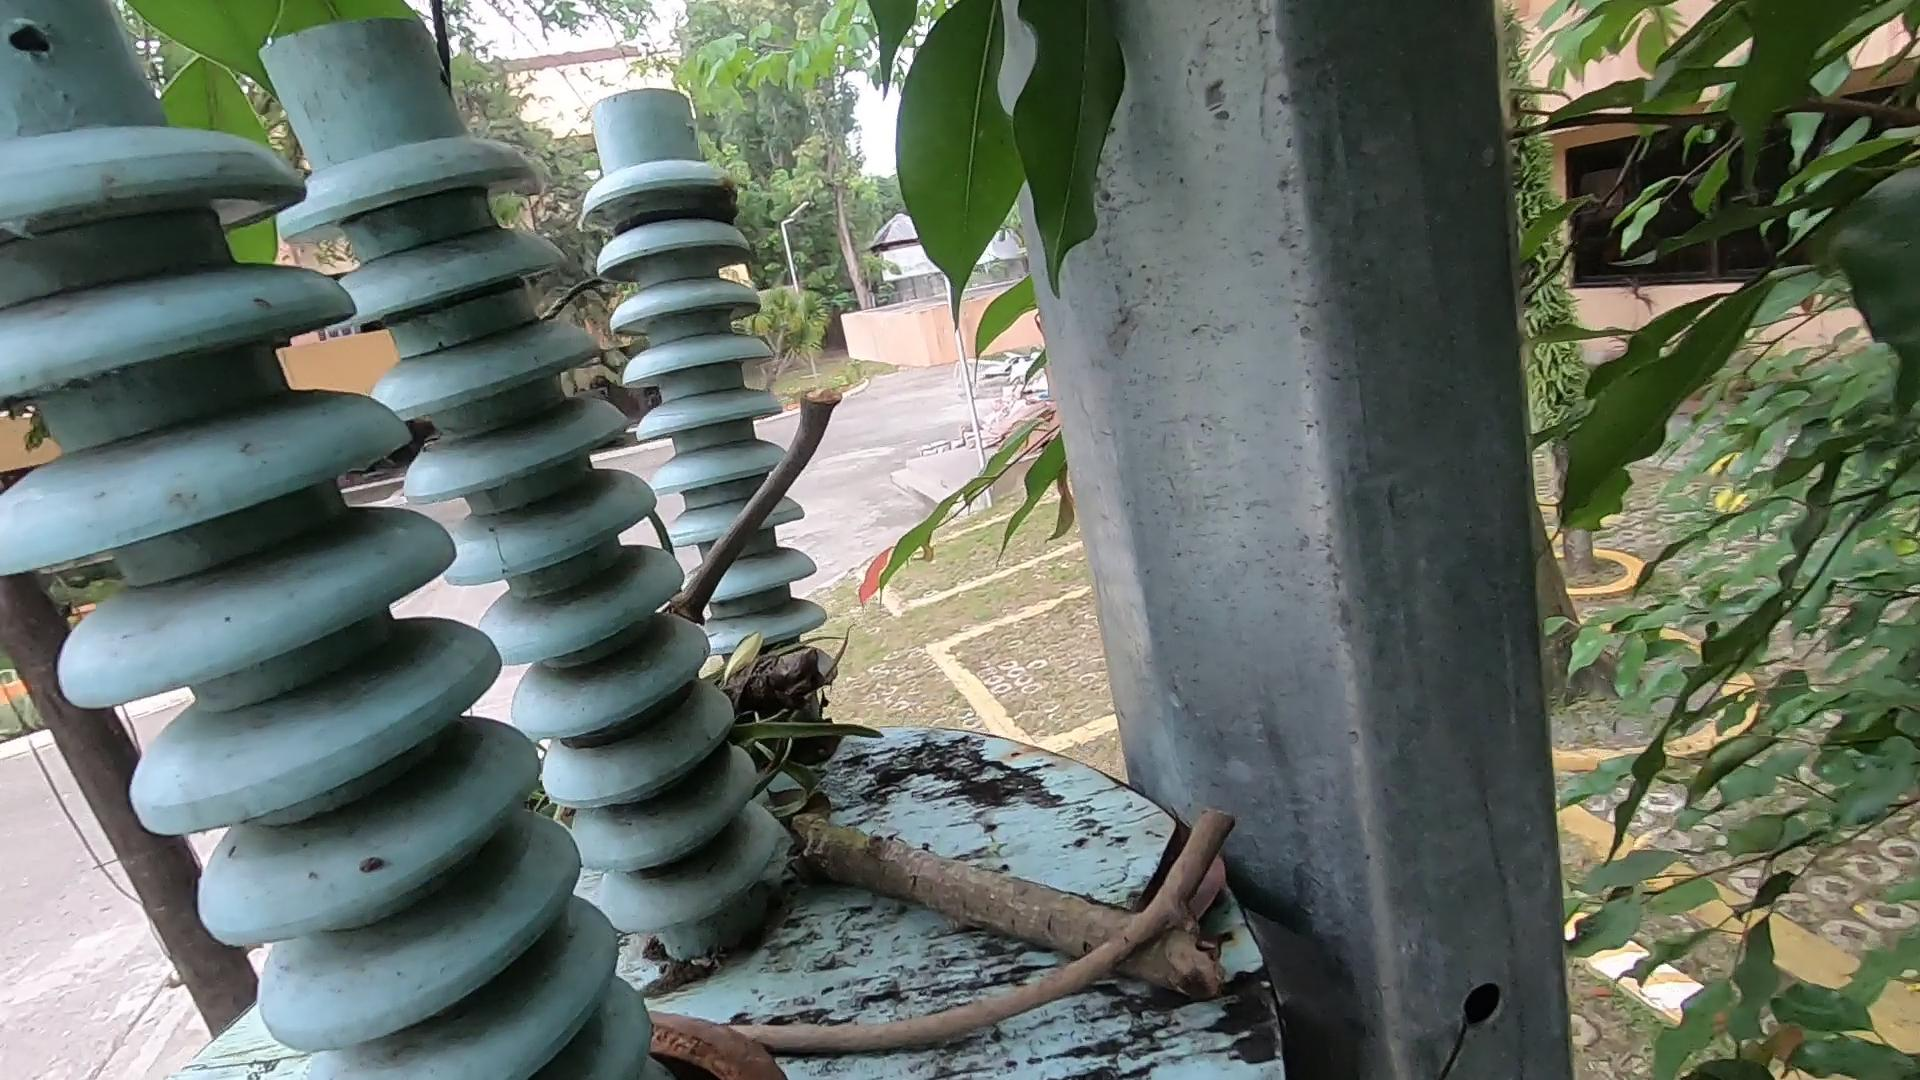branch with leaves: (713, 632, 1197, 1005)
mahogany fruit: (632, 994, 853, 1077)
tree branch: (622, 266, 889, 698), (615, 980, 829, 1059)
